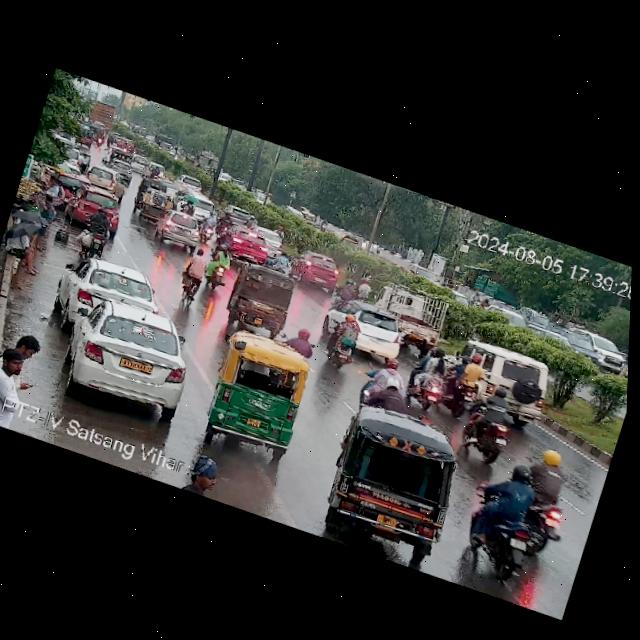car: (37, 283, 205, 426), (320, 401, 472, 559), (200, 329, 317, 458), (59, 250, 164, 331), (221, 258, 303, 346), (335, 297, 409, 361), (547, 322, 613, 370), (67, 186, 128, 235), (151, 205, 208, 255), (499, 299, 559, 344), (577, 328, 629, 375), (222, 222, 272, 266), (296, 249, 345, 292), (80, 160, 129, 197), (134, 184, 175, 225), (174, 190, 218, 223), (246, 223, 286, 253), (404, 258, 439, 283), (221, 204, 256, 227), (129, 177, 149, 216), (174, 173, 205, 197), (108, 159, 133, 181), (340, 233, 362, 253), (129, 152, 148, 175), (110, 149, 132, 168), (74, 126, 93, 146), (107, 129, 125, 147), (102, 144, 114, 162), (157, 165, 169, 181), (126, 138, 137, 152)
motorcycle: (471, 453, 573, 558), (456, 385, 521, 467), (397, 334, 452, 408), (439, 343, 491, 415), (316, 301, 368, 372), (174, 243, 217, 312), (80, 198, 118, 257), (526, 440, 571, 486), (202, 245, 231, 291), (266, 246, 300, 279), (289, 324, 321, 359), (331, 275, 357, 312), (212, 208, 236, 247), (195, 208, 221, 243), (353, 273, 375, 304), (471, 287, 491, 310), (179, 197, 200, 218), (92, 128, 106, 147), (245, 215, 258, 231), (149, 165, 160, 182), (120, 138, 131, 151), (273, 224, 284, 236)
person: (0, 220, 51, 278), (0, 345, 40, 408), (182, 454, 232, 503), (9, 329, 47, 364), (40, 176, 71, 218)
truck: (478, 343, 562, 432), (373, 279, 448, 351), (187, 144, 222, 178), (87, 99, 118, 132)
